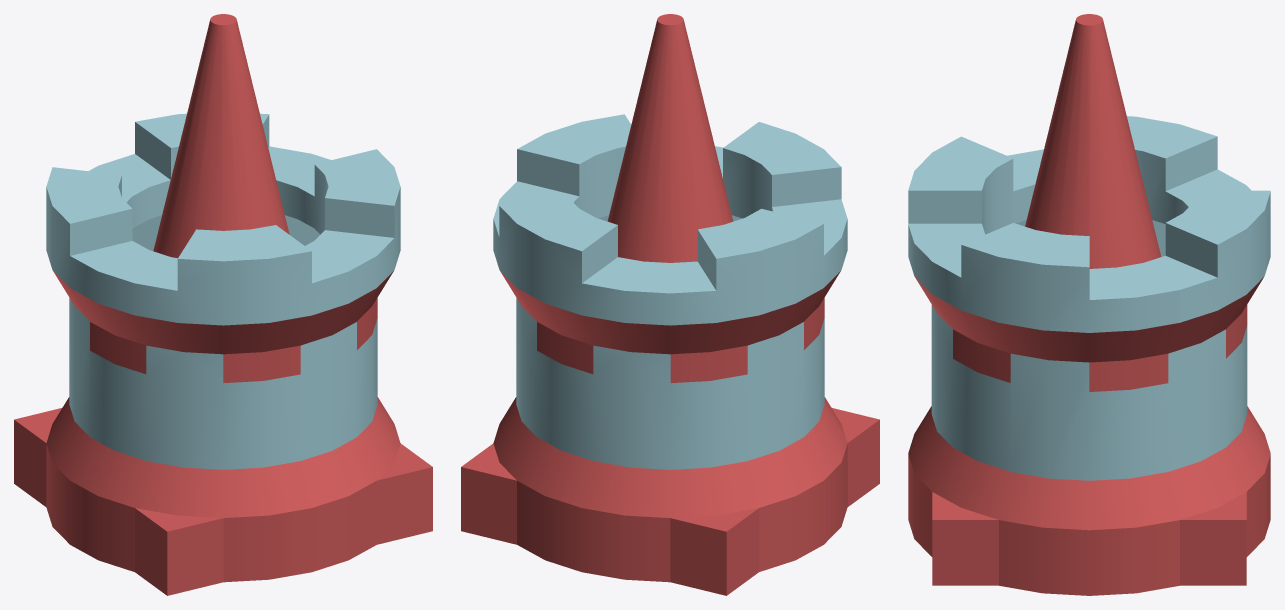
Rendered from towerRound_sampleB.dae.
3 views of the same model, side by side, from view 1: azimuth 30°, elevation 25°; view 2: azimuth 150°, elevation 25°; view 3: azimuth 270°, elevation 25° (orthographic). The views are drawn at different scales.
Parts seen in each view (by area): view 1: towerRound_sampleB; view 2: towerRound_sampleB; view 3: towerRound_sampleB.
Boxes of the visible parts, left/top/right/bottom form: towerRound_sampleB: left=14, top=14, right=432, bottom=595; towerRound_sampleB: left=461, top=14, right=879, bottom=595; towerRound_sampleB: left=908, top=14, right=1270, bottom=595.
Size of the model in its own units: 1 by 1.52 by 1.
